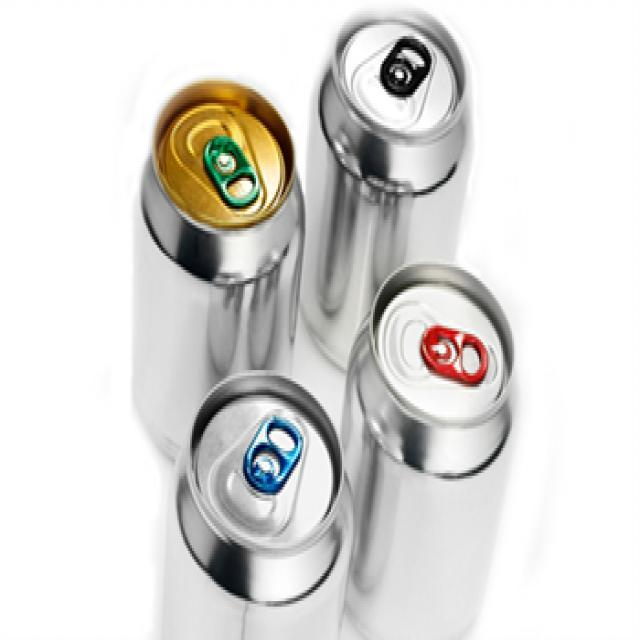can: (115, 52, 305, 481), (338, 248, 526, 640), (310, 0, 480, 410), (167, 378, 360, 640)
